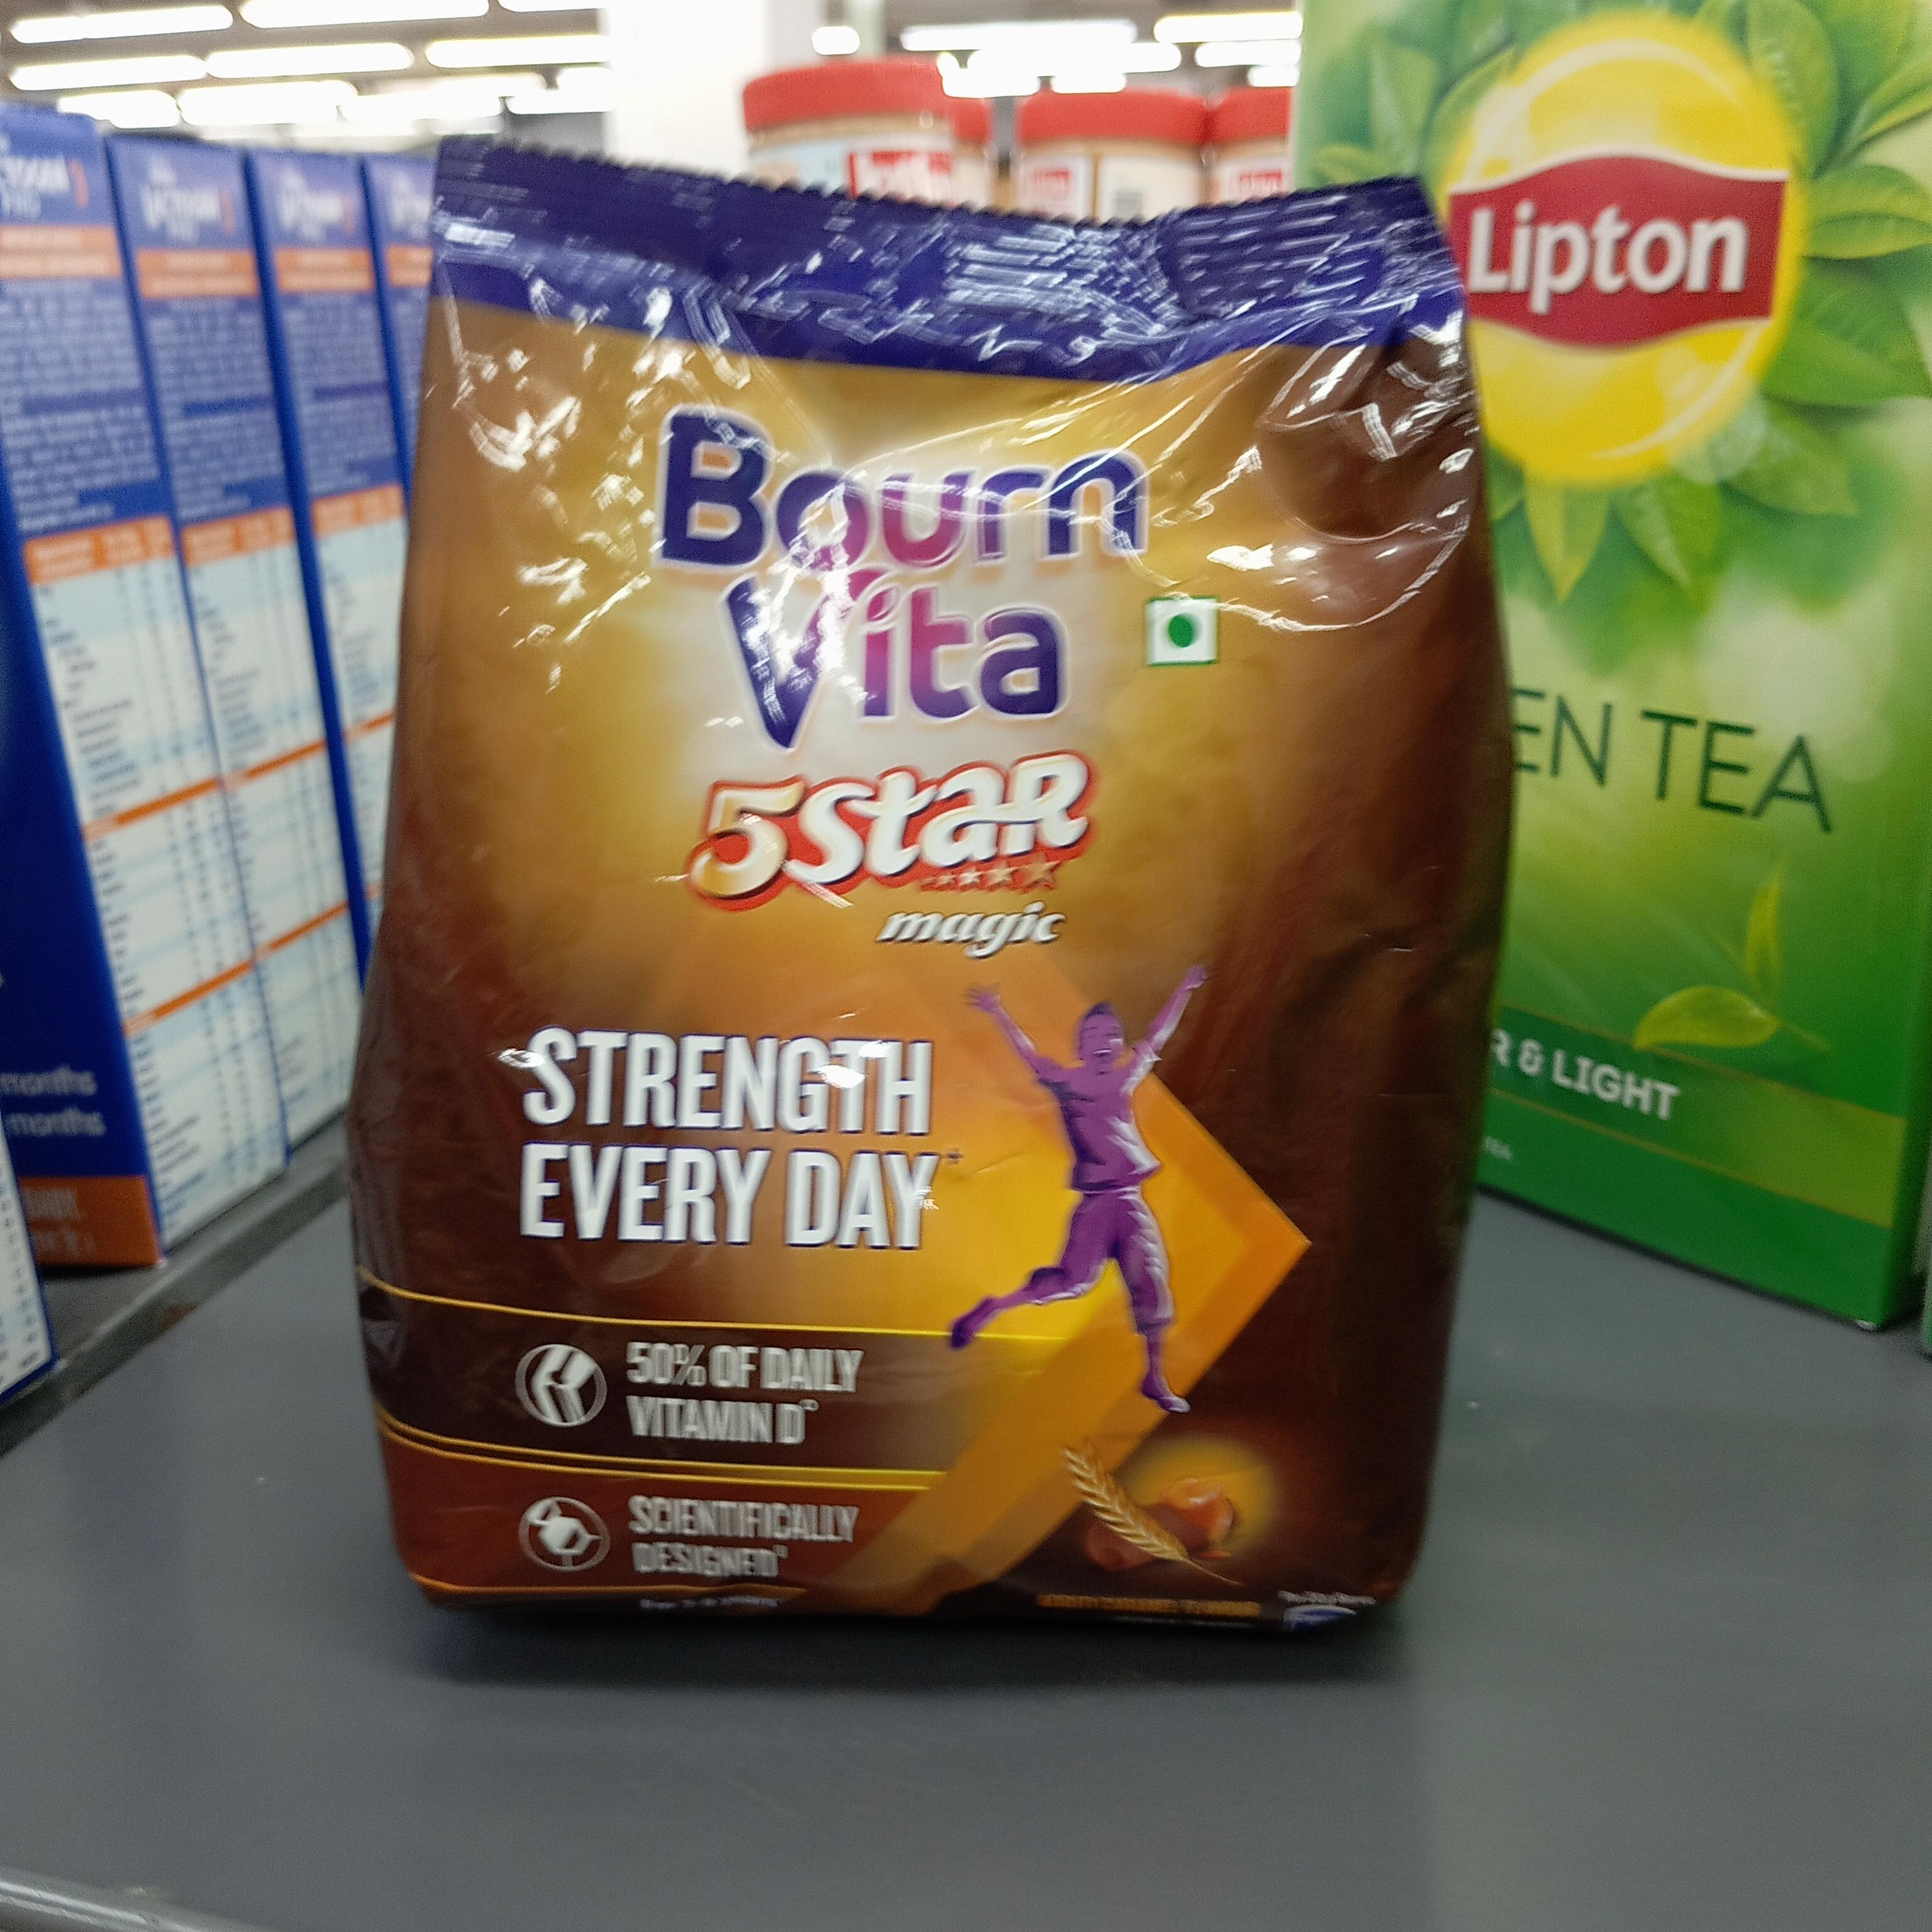BOURN_VITA_FIVE_STAR_MAGIC_500_G_POUCH: (377, 142, 1453, 1654)
